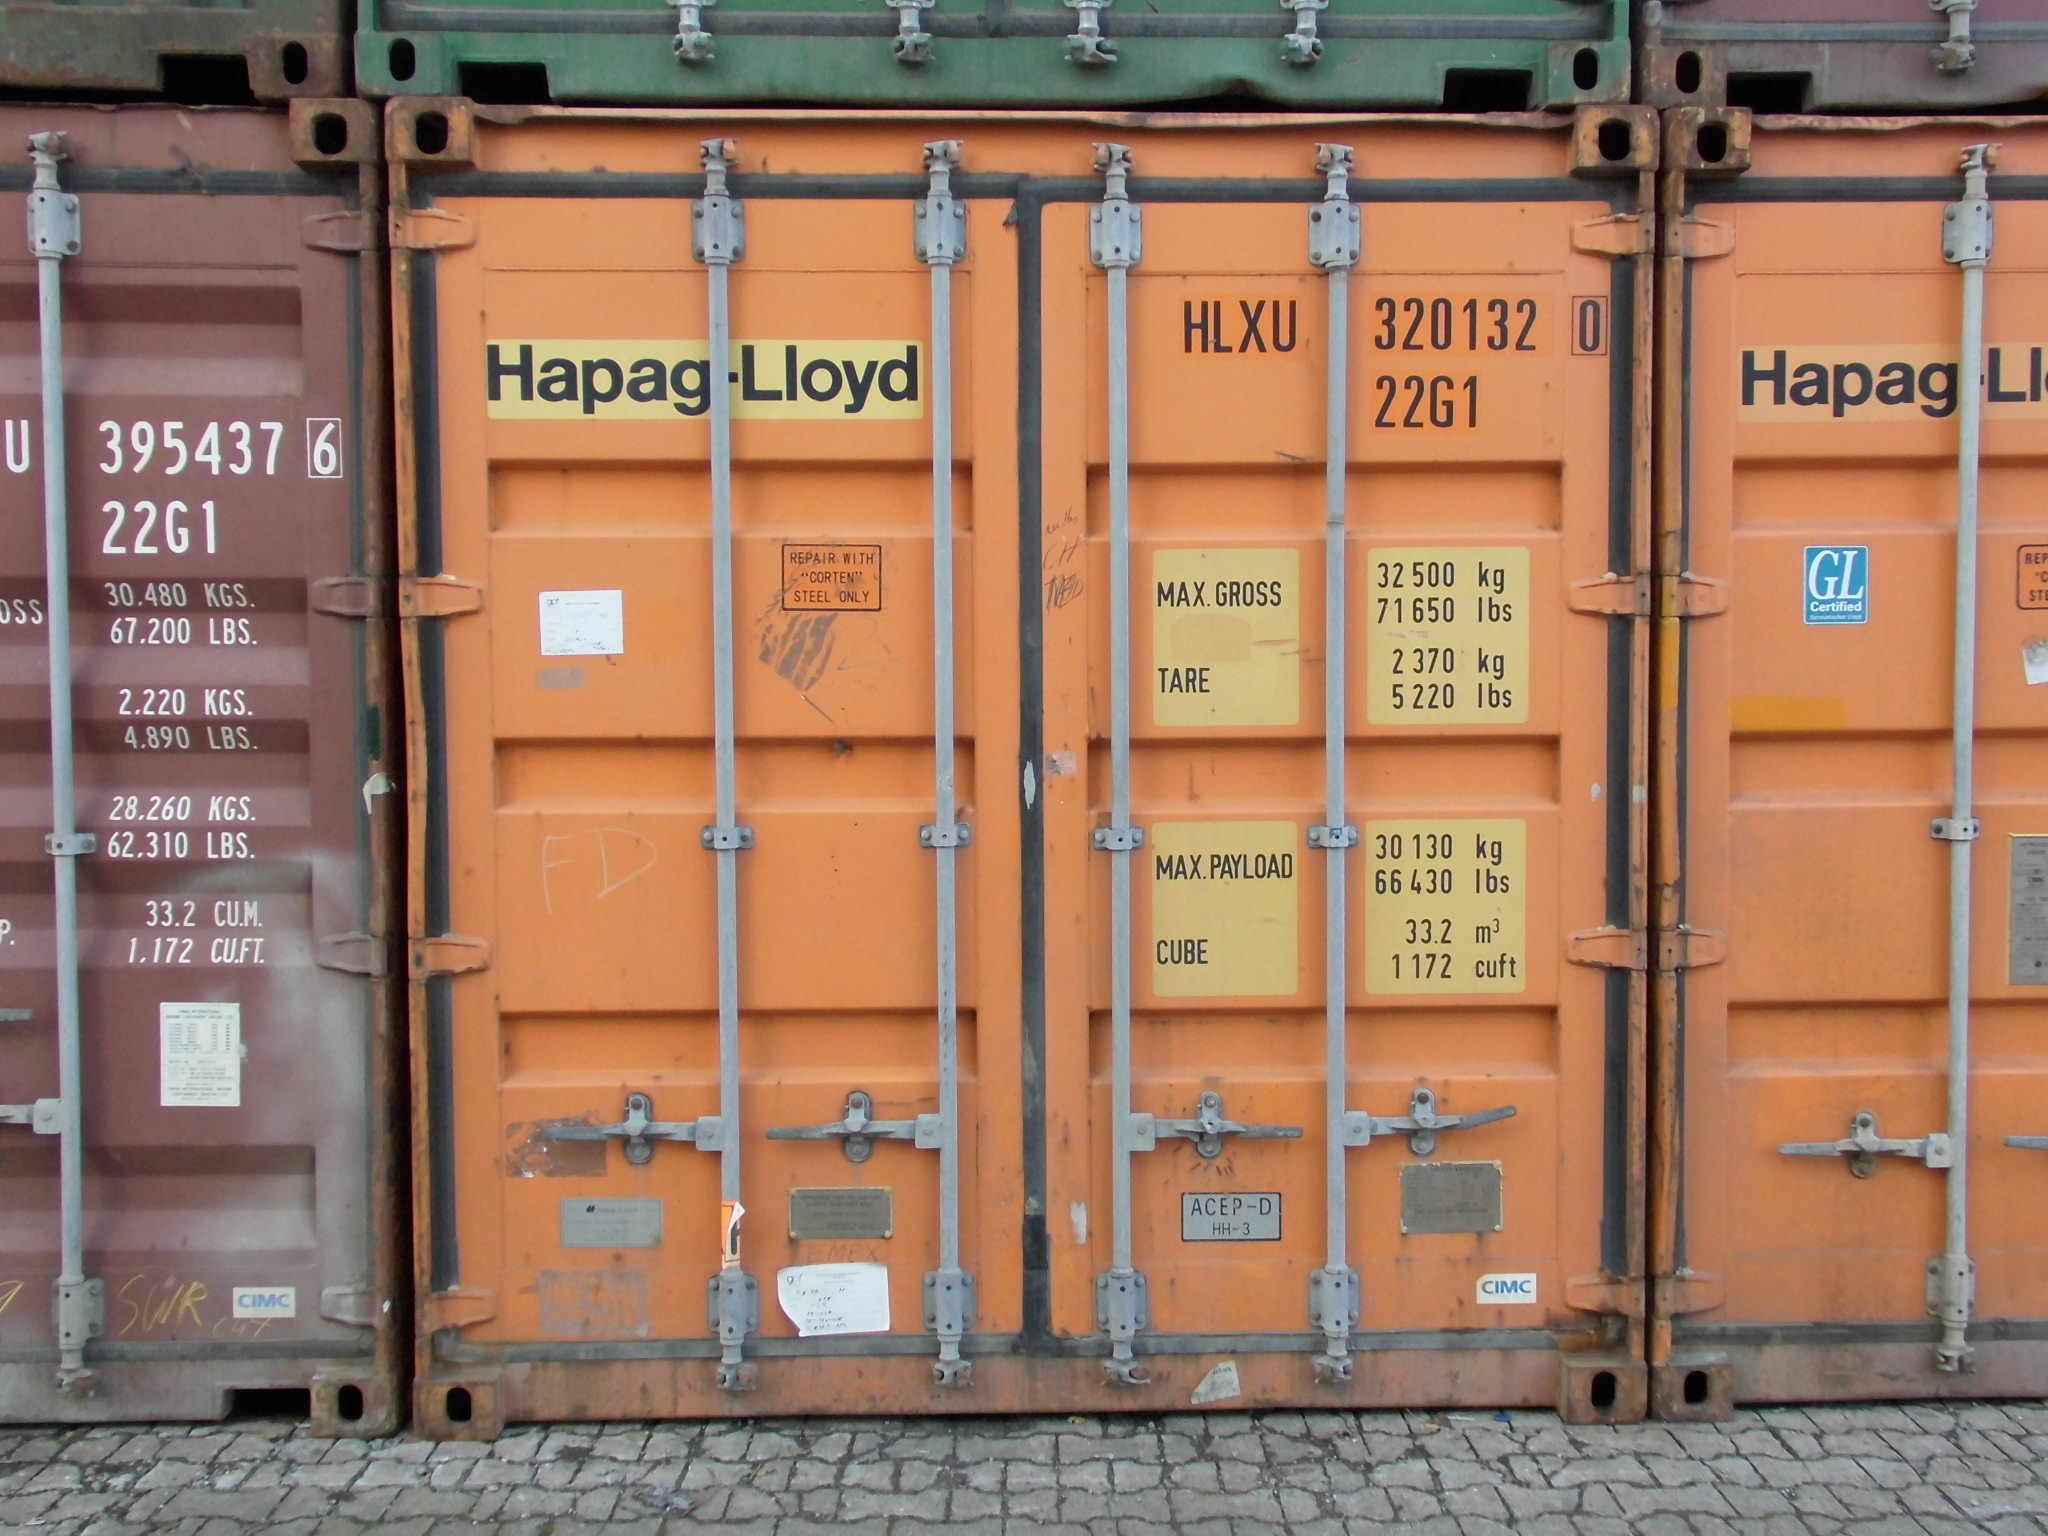container_door: (376, 94, 1642, 1426)
